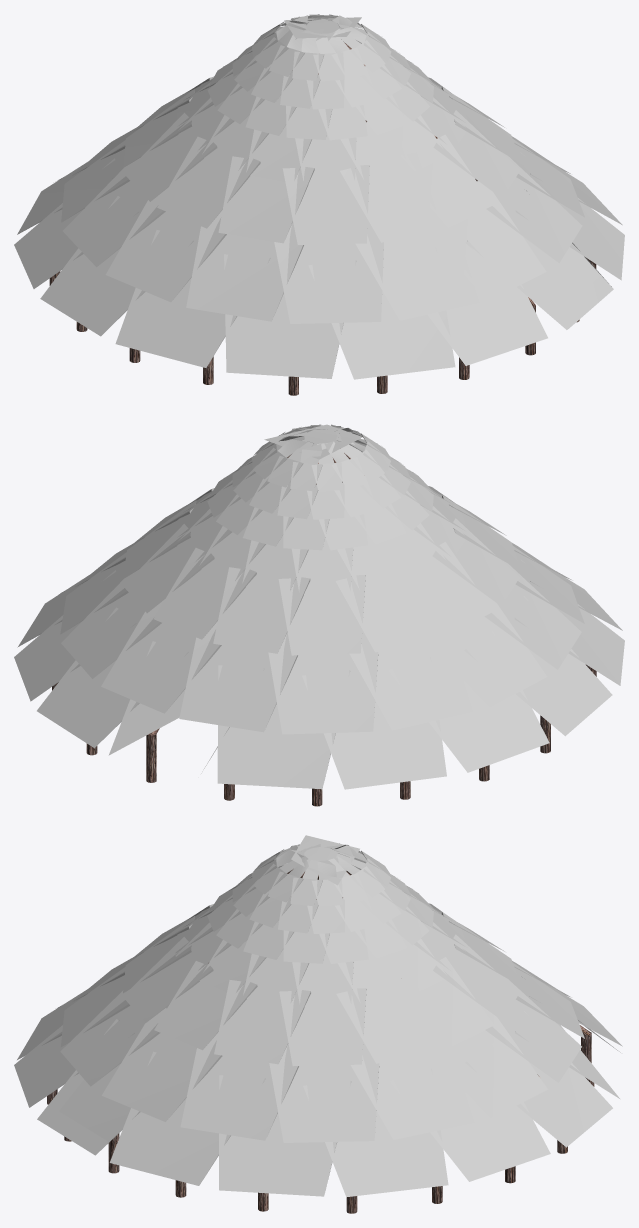
The model's file is oca_principal.fbx.
3 renders of one model, top to bottom at view 1: azimuth 30°, elevation 25°; view 2: azimuth 150°, elevation 25°; view 3: azimuth 270°, elevation 25°, orthographic.
Parts seen in each view (by area): view 1: HUt, Cylinder.001; view 2: HUt, Cylinder.001; view 3: HUt, Cylinder.001.
Boxes of the visible parts, bbox=[...] form: HUt: bbox=[14, 14, 624, 379]; Cylinder.001: bbox=[49, 43, 596, 395]; HUt: bbox=[14, 424, 624, 789]; Cylinder.001: bbox=[52, 453, 596, 806]; HUt: bbox=[14, 835, 622, 1197]; Cylinder.001: bbox=[47, 869, 594, 1213].
Size of the model in its own units: 1742 by 804 by 1786.
